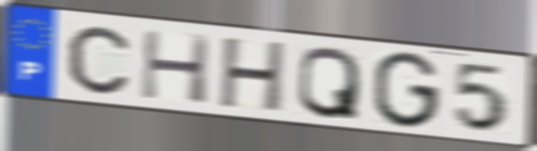5: (451, 60, 514, 133)
C: (64, 23, 132, 97)
G: (370, 49, 443, 131)
H: (138, 28, 214, 107), (216, 36, 290, 116)
Q: (294, 44, 362, 122)
